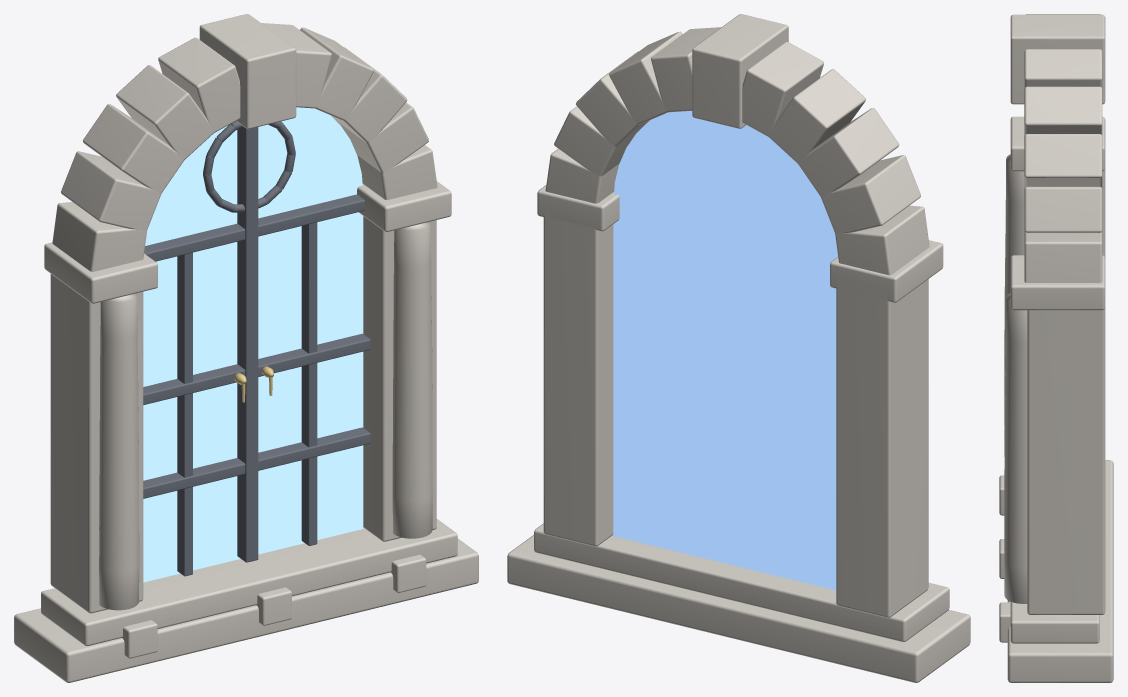
The model's file is webtoon-modular-arch-window-v13.glb.
3 renders of one model, left to right at view 1: azimuth 30°, elevation 25°; view 2: azimuth 150°, elevation 25°; view 3: azimuth 270°, elevation 25°, orthographic. The views are drawn at different scales.
Parts seen in each view (by area): view 1: ArchStoneSurround, ArchWindowPane, ArchMullionFrame; view 2: ArchStoneSurround, ArchWindowPane; view 3: ArchStoneSurround.
Part boxes in pixels (x1,y1,x2,y2): ArchStoneSurround: [14, 14, 478, 682]; ArchWindowPane: [143, 107, 363, 582]; ArchMullionFrame: [143, 121, 370, 576]; ArchStoneSurround: [507, 14, 970, 682]; ArchWindowPane: [613, 111, 837, 590]; ArchStoneSurround: [999, 14, 1113, 682].
Bounding box in the file's own units: 1.66 × 2.22 × 0.41.
